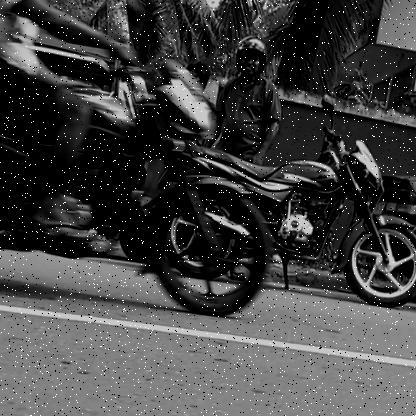motorcycle: (0, 2, 294, 341), (156, 93, 416, 321)
